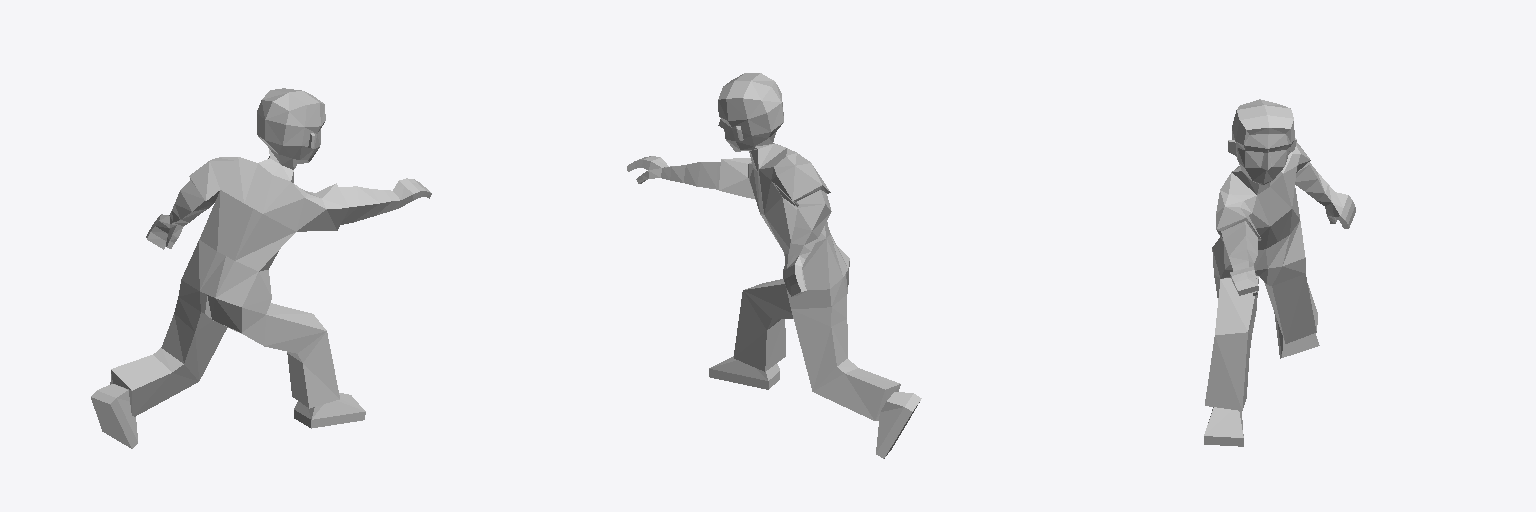
File: zombie_male_attack_3.obj
The picture shows the model from 3 angles: view 1: azimuth 30°, elevation 25°; view 2: azimuth 150°, elevation 25°; view 3: azimuth 270°, elevation 25°; orthographic projection.
Size of the model in its own units: 1.54 by 1.55 by 0.6565.